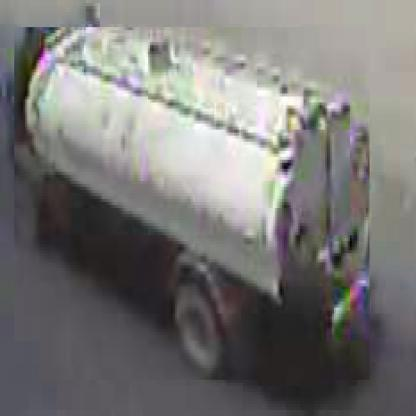truck: (16, 28, 373, 384)
